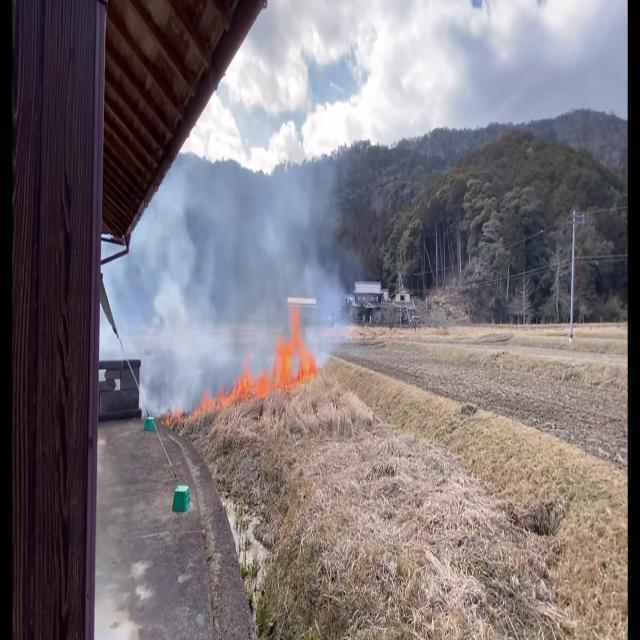Fire: (275, 296, 315, 394)
Smoke: (126, 108, 362, 424)
